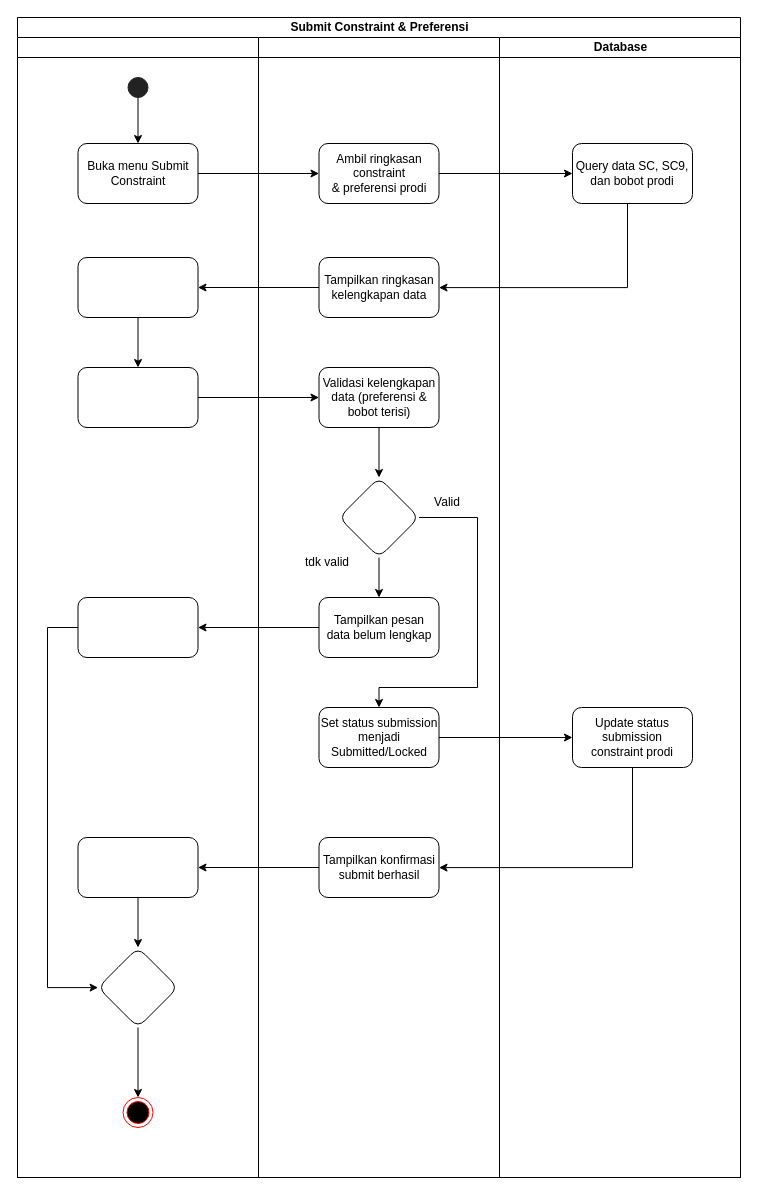
The diagram is 758 pixels wide and 1195 high, and some of its shapes have lost their labels. Each missing label, with the box of its shape:
Koor Prodi: (16, 36, 258, 1178)
Lihat konfirmasi: (77, 836, 198, 898)
Lihat pesan error: (77, 596, 198, 658)
Lihat ringkasan constraint & preferensi: (77, 256, 198, 318)
Pilih aksi submit: (77, 366, 198, 428)
Sistem: (258, 36, 500, 1178)
